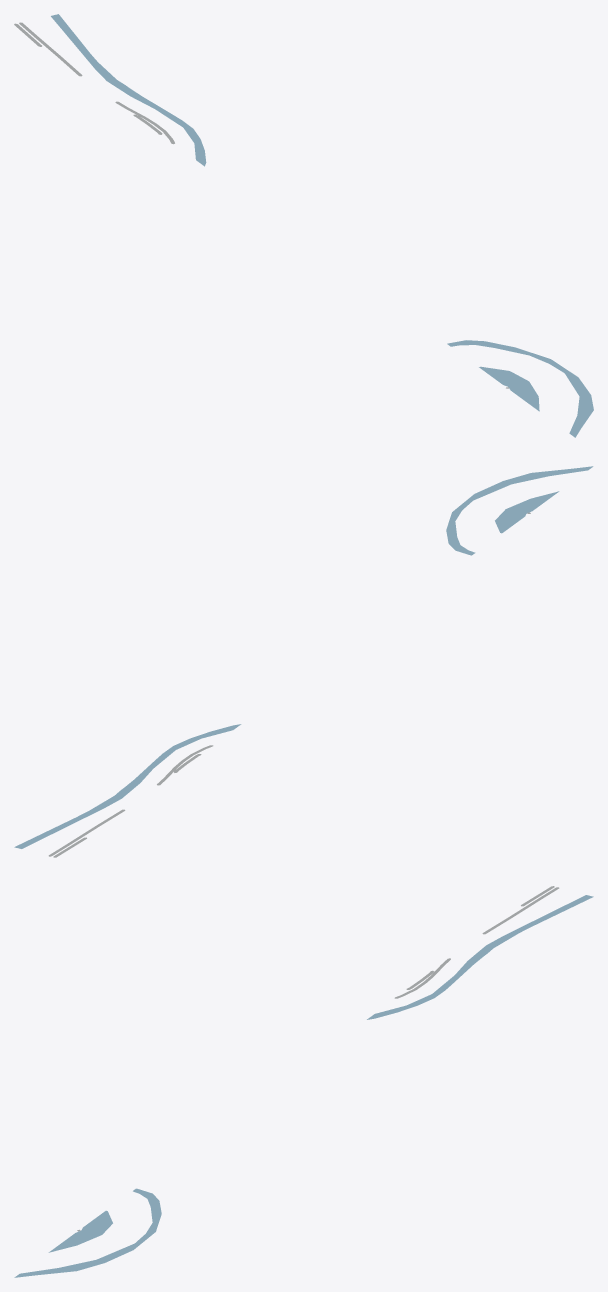
Rendered from 13_1-known-fine.glb.
3 renders of one model, top to bottom at view 1: azimuth 30°, elevation 25°; view 2: azimuth 150°, elevation 25°; view 3: azimuth 330°, elevation 25°, orthographic. The views are drawn at different scales.
Bounding box in the file's own units: 56.79 × 0.1 × 839.
